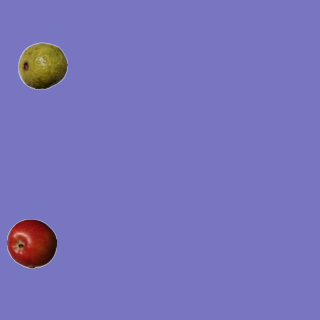Apple Braeburn: (6, 218, 56, 268)
Guava: (17, 40, 67, 90)
